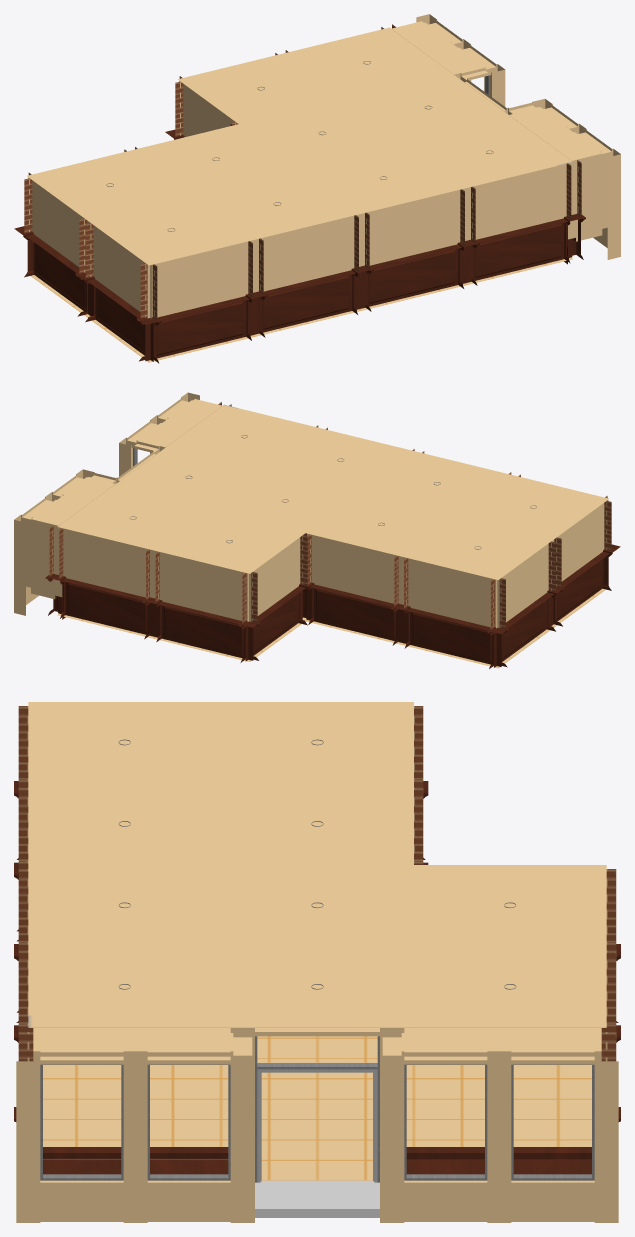
The model's file is bakeryFull.gltf.
The picture shows the model from 3 angles, top to bottom: view 1: azimuth 30°, elevation 25°; view 2: azimuth 150°, elevation 25°; view 3: azimuth 270°, elevation 25°; orthographic projection. The views are drawn at different scales.
Parts seen in each view (by area): view 1: LeftColumnWood.002; view 2: LeftColumnWood.002; view 3: LeftColumnWood.002.
Part boxes in pixels (x1,y1,x2,y2): LeftColumnWood.002: (14, 14, 620, 363); LeftColumnWood.002: (14, 392, 620, 668); LeftColumnWood.002: (14, 702, 620, 1222).
Bounding box in the file's own units: 17.95 × 3.72 × 12.6.
